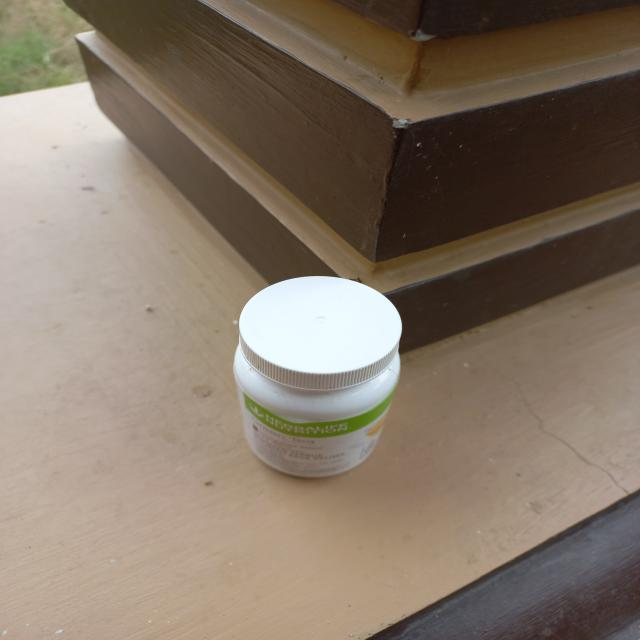Green-Tea: (189, 244, 437, 496)
